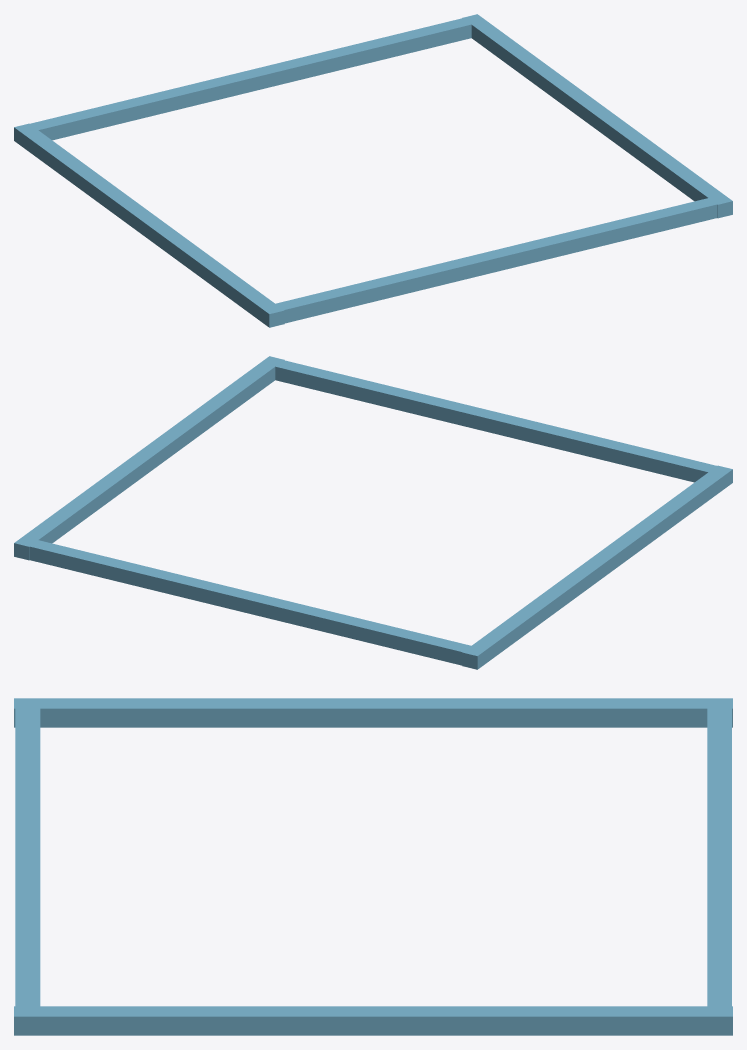
The model's file is ExitPointMesh.fbx.
3 renders of one model, top to bottom at view 1: azimuth 30°, elevation 25°; view 2: azimuth 150°, elevation 25°; view 3: azimuth 270°, elevation 25°, orthographic. The views are drawn at different scales.
Visible parts, largest first — view 1: Cube.002; view 2: Cube.002; view 3: Cube.002.
Boxes of the visible parts, x1,y1,x2,y2 form: Cube.002: (14,14,732,327); Cube.002: (14,356,732,669); Cube.002: (14,698,732,1035).
Size of the model in its own units: 96.08 by 2.7 by 91.71.
